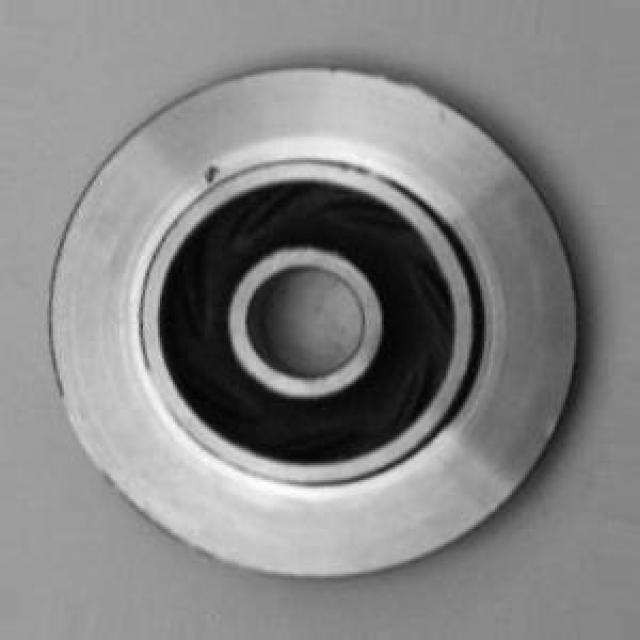Defect: (195, 154, 231, 189)
